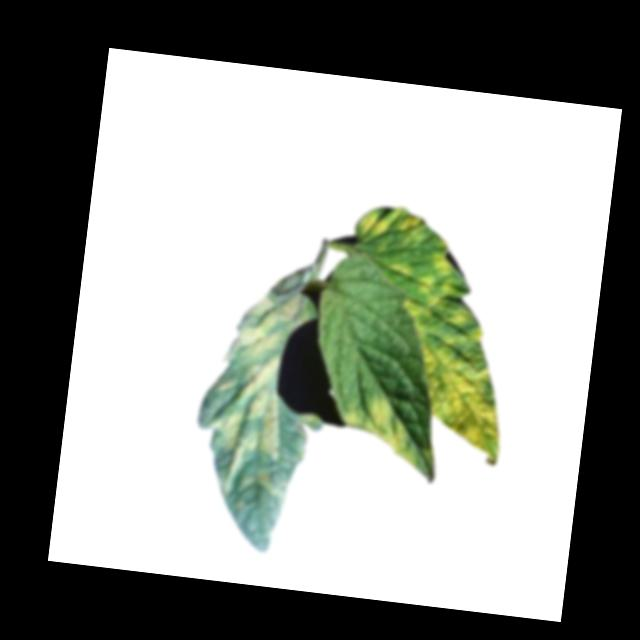Leaf_Mold: (189, 260, 311, 502), (410, 343, 515, 458), (340, 392, 424, 469), (402, 270, 452, 322), (443, 311, 488, 349), (352, 205, 391, 245), (395, 211, 432, 251), (433, 247, 462, 276)
